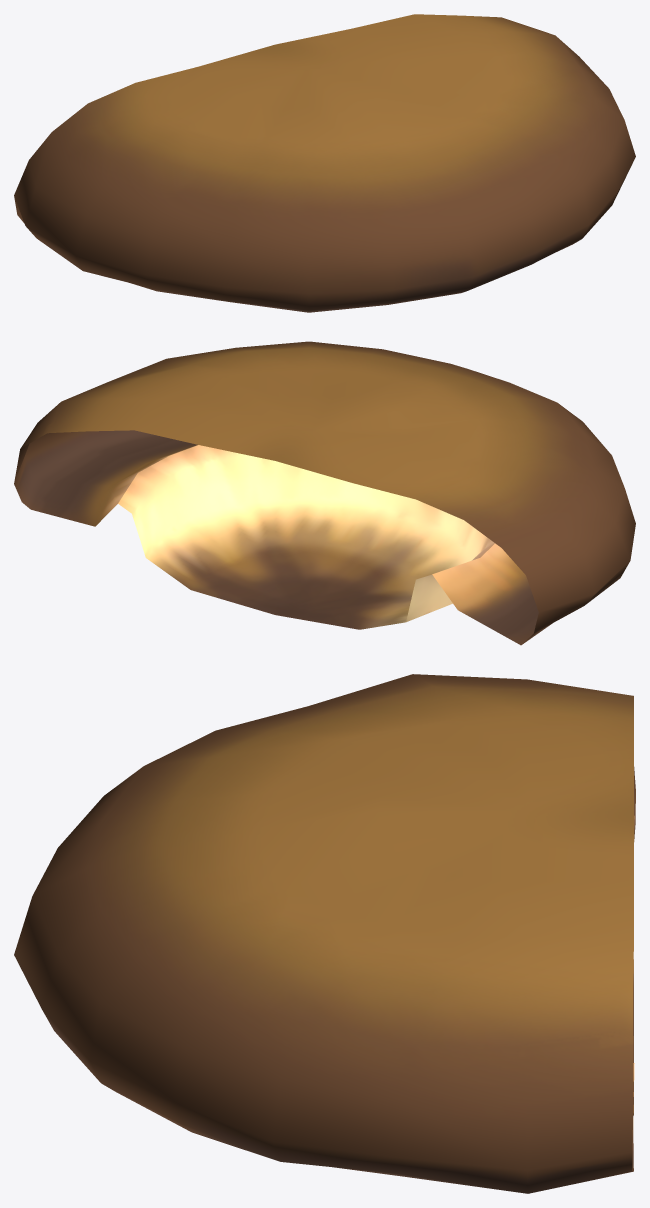
File: Leuchtpilz.fbx
3 views of the same model, one above another, from view 1: azimuth 30°, elevation 25°; view 2: azimuth 150°, elevation 25°; view 3: azimuth 270°, elevation 25° (orthographic). The views are drawn at different scales.
Visible parts, largest first — view 1: Cube; view 2: Cube; view 3: Cube.
Part boxes in pixels (x1,y1,x2,y2): Cube: (14, 14, 635, 312); Cube: (14, 341, 635, 645); Cube: (14, 674, 635, 1193).
Bounding box in the file's own units: 198 × 53.21 × 120.
